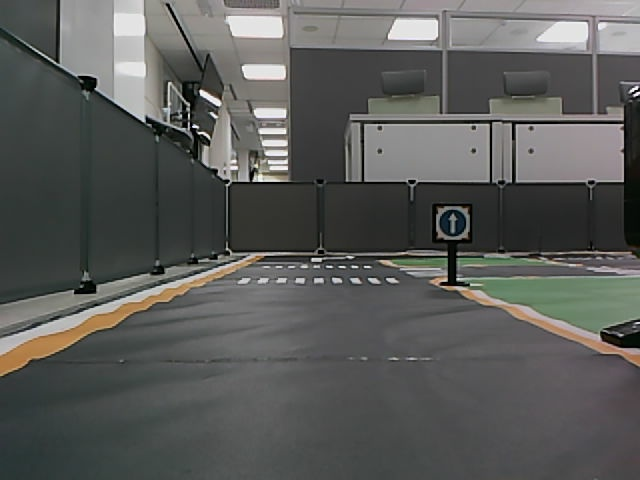crosswalk: (237, 274, 400, 287), (262, 264, 373, 271)
go: (439, 209, 467, 238)
